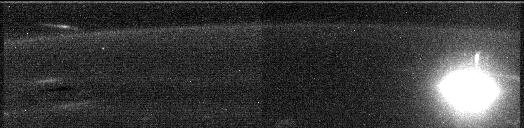positive: (470, 49, 483, 69)
